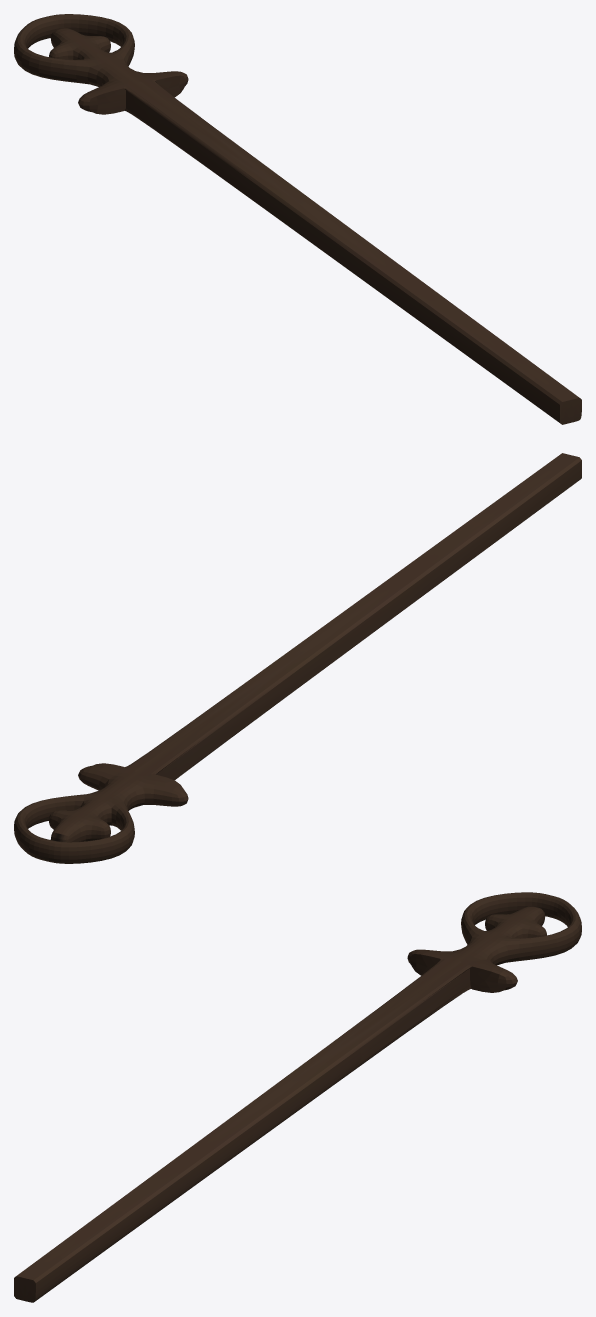
The model's file is Monk_staff.fbx.
3 views of the same model, one above another, from view 1: azimuth 30°, elevation 25°; view 2: azimuth 150°, elevation 25°; view 3: azimuth 330°, elevation 25° (orthographic).
Parts seen in each view (by area): view 1: Cube; view 2: Cube; view 3: Cube.
Boxes of the visible parts, <box> form: Cube: <box>14,14,581,424</box>; Cube: <box>14,453,581,863</box>; Cube: <box>14,892,581,1302</box>.
Size of the model in its own units: 55.51 by 11.15 by 465.
Materials: 1 (1 with a texture image).
